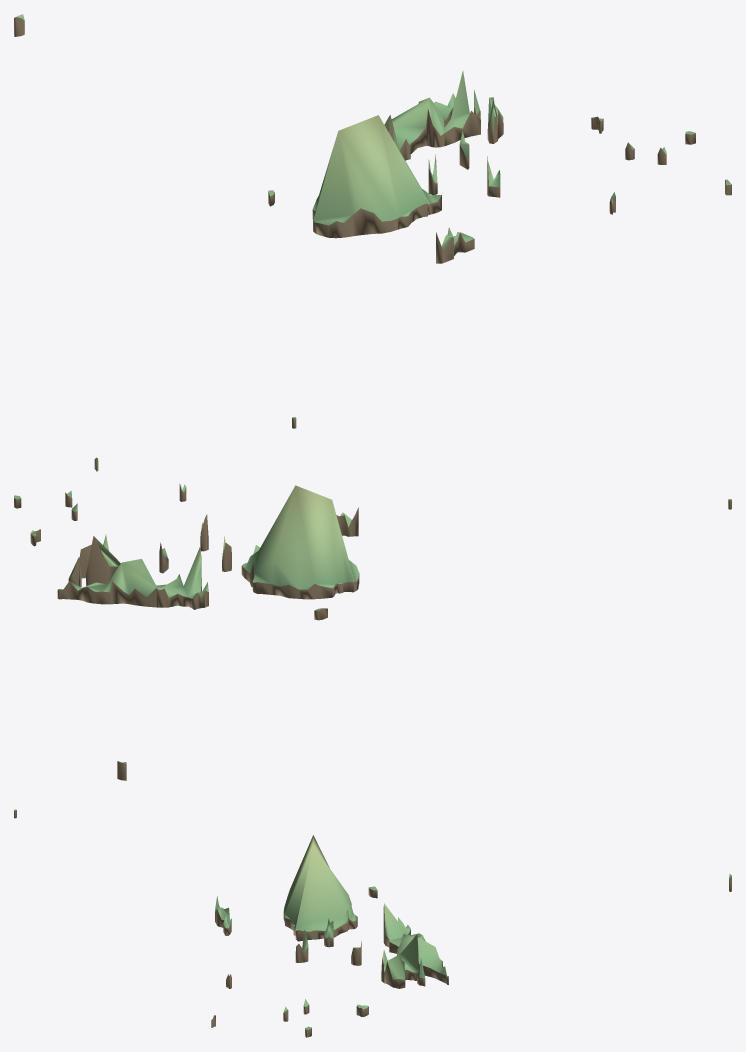
The model's file is FJI.glb.
3 renders of one model, top to bottom at view 1: azimuth 30°, elevation 25°; view 2: azimuth 150°, elevation 25°; view 3: azimuth 270°, elevation 25°, orthographic. The views are drawn at different scales.
Parts seen in each view (by area): view 1: FJI; view 2: FJI; view 3: FJI.
Part boxes in pixels (bbox=[...]): FJI: bbox=[14, 14, 731, 428]; FJI: bbox=[14, 457, 731, 780]; FJI: bbox=[14, 809, 731, 1037].
Size of the model in its own units: 1.11 by 0.1793 by 1.52.
